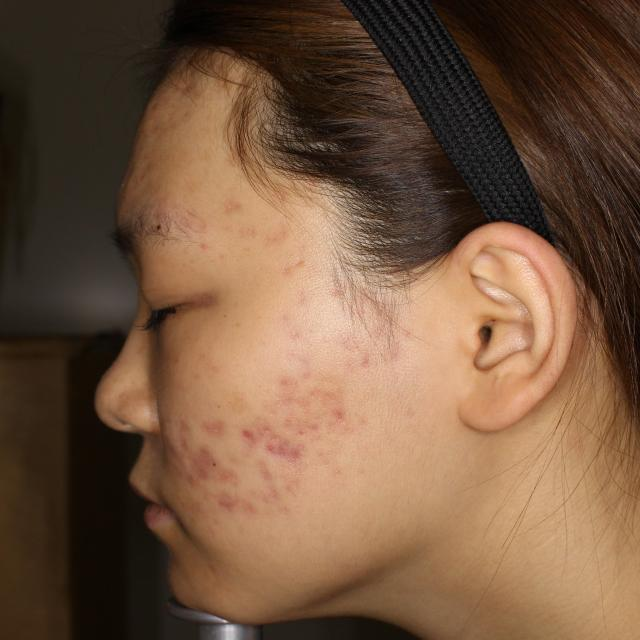pustule: (268, 432, 310, 467), (218, 185, 249, 228), (212, 489, 252, 522), (169, 414, 201, 449), (317, 404, 355, 431), (207, 413, 232, 442), (215, 466, 240, 494), (237, 417, 265, 438), (272, 363, 290, 391), (204, 449, 221, 465)
